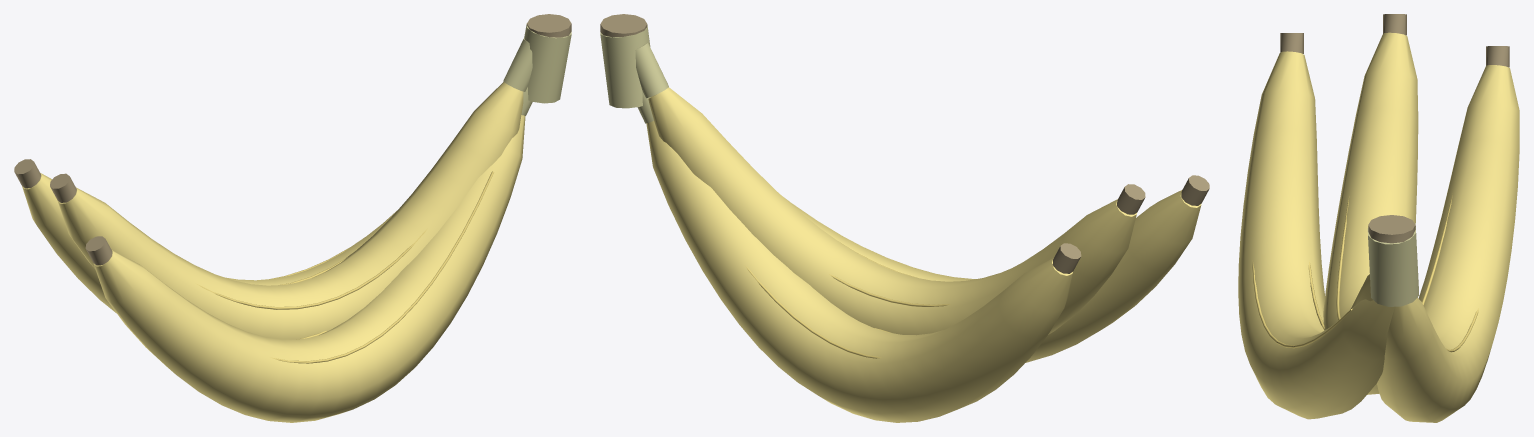
File: banana.glb
The picture shows the model from 3 angles, left to right: view 1: azimuth 30°, elevation 25°; view 2: azimuth 150°, elevation 25°; view 3: azimuth 270°, elevation 25°; orthographic projection. The views are drawn at different scales.
Visible parts, largest first — view 1: library-banana-product-banana-peel, library-banana-product-banana-stalk, library-banana-product-banana-tips, library-banana-product-banana-ridge; view 2: library-banana-product-banana-peel, library-banana-product-banana-stalk, library-banana-product-banana-tips, library-banana-product-banana-ridge; view 3: library-banana-product-banana-peel, library-banana-product-banana-stalk, library-banana-product-banana-tips, library-banana-product-banana-ridge.
Part boxes in pixels (x1=…): library-banana-product-banana-peel: x1=22, y1=82, x2=525, y2=422; library-banana-product-banana-stalk: x1=503, y1=23, x2=571, y2=115; library-banana-product-banana-tips: x1=14, y1=14, x2=571, y2=265; library-banana-product-banana-ridge: x1=197, y1=171, x2=493, y2=363; library-banana-product-banana-peel: x1=646, y1=87, x2=1201, y2=422; library-banana-product-banana-stalk: x1=600, y1=25, x2=668, y2=123; library-banana-product-banana-tips: x1=600, y1=14, x2=1209, y2=273; library-banana-product-banana-ridge: x1=745, y1=242, x2=950, y2=358; library-banana-product-banana-peel: x1=1238, y1=32, x2=1519, y2=422; library-banana-product-banana-stalk: x1=1367, y1=226, x2=1419, y2=306; library-banana-product-banana-tips: x1=1280, y1=14, x2=1509, y2=243; library-banana-product-banana-ridge: x1=1252, y1=193, x2=1478, y2=352.
Size of the model in its own units: 0.2079 by 0.1092 by 0.0903.
